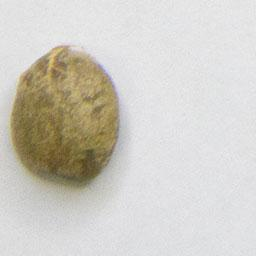premium: (8, 42, 123, 190)
